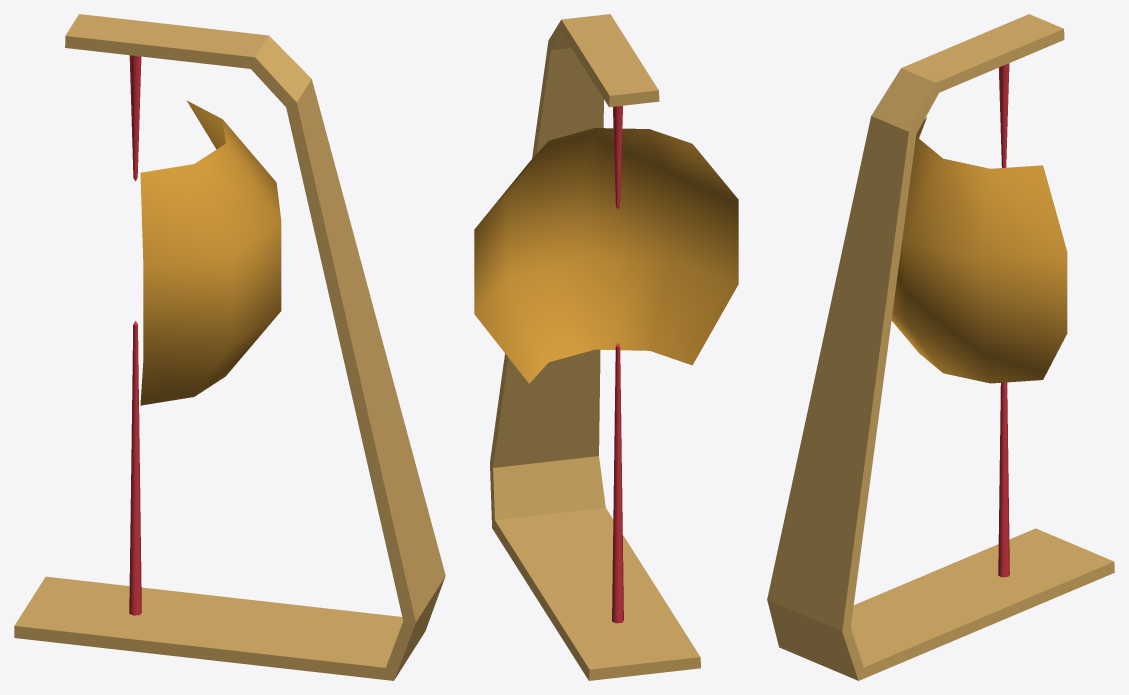
The model's file is instrument3.dae.
3 views of the same model, side by side, from view 1: azimuth 30°, elevation 25°; view 2: azimuth 150°, elevation 25°; view 3: azimuth 270°, elevation 25° (orthographic). The views are drawn at different scales.
Parts seen in each view (by area): view 1: $dummy_node (×3); view 2: $dummy_node (×3); view 3: $dummy_node (×3).
Part boxes in pixels (x1,y1,x2,y2): $dummy_node (×3): [14, 14, 445, 680]; $dummy_node (×3): [474, 14, 738, 680]; $dummy_node (×3): [767, 14, 1114, 680].
Bounding box in the file's own units: 1.73 × 3 × 1.73.
